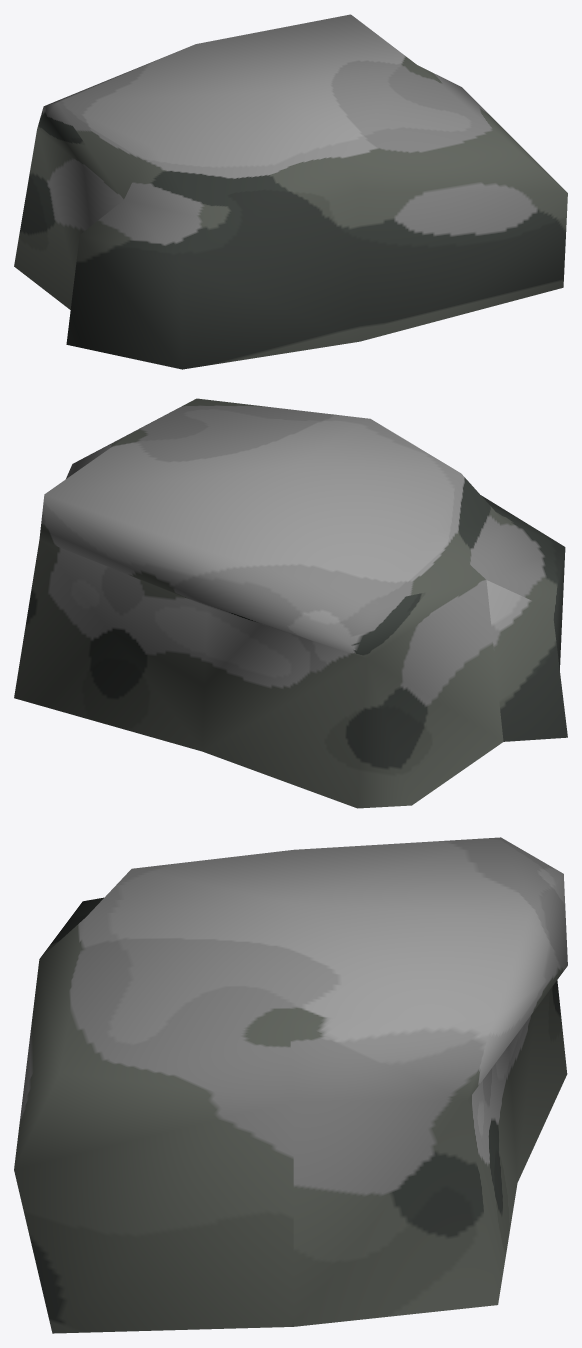
File: Sunbathin Rock_preview_3DS_simplified.glb
3 views of the same model, one above another, from view 1: azimuth 30°, elevation 25°; view 2: azimuth 150°, elevation 25°; view 3: azimuth 270°, elevation 25° (orthographic). The views are drawn at different scales.
Visible parts, largest first — view 1: Marine Park Empire model; view 2: Marine Park Empire model; view 3: Marine Park Empire model.
Boxes of the visible parts, left/top/right/bottom form: Marine Park Empire model: left=14, top=14, right=567, bottom=369; Marine Park Empire model: left=14, top=398, right=567, bottom=808; Marine Park Empire model: left=14, top=837, right=567, bottom=1333.
Bounding box in the file's own units: 192 × 79.96 × 144.
1 material, 1 textured.
